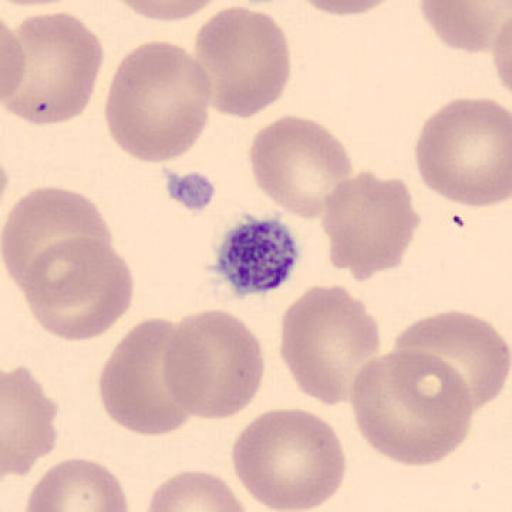Platelet: (209, 212, 303, 298)
RBC: (348, 347, 473, 468), (102, 39, 214, 166), (279, 282, 381, 409), (230, 406, 348, 512), (21, 234, 135, 343), (98, 315, 198, 437), (2, 184, 116, 291), (0, 10, 104, 127), (391, 309, 511, 410), (190, 4, 292, 120), (163, 309, 267, 422), (247, 113, 353, 221), (320, 169, 421, 282), (413, 96, 511, 210), (2, 364, 58, 478), (23, 455, 130, 512), (416, 0, 512, 55), (144, 468, 250, 512), (111, 0, 227, 23), (2, 26, 26, 108), (301, 0, 399, 18), (490, 15, 512, 93), (0, 0, 78, 7)
